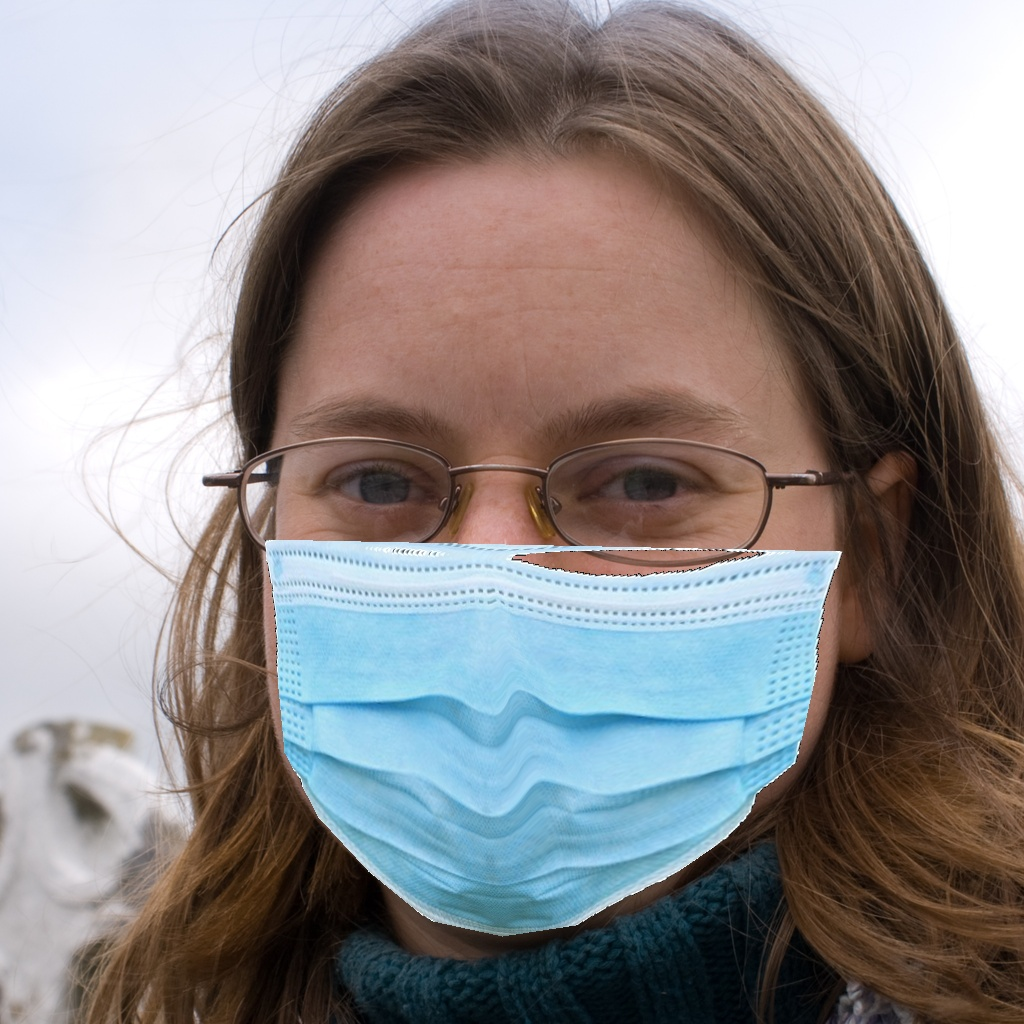Mask: (254, 367, 826, 938)
